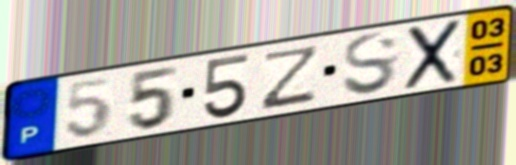5: (127, 62, 181, 132), (201, 51, 252, 121), (63, 76, 115, 141)
S: (340, 30, 401, 97)
X: (401, 16, 465, 93)
Z: (257, 42, 324, 113)
